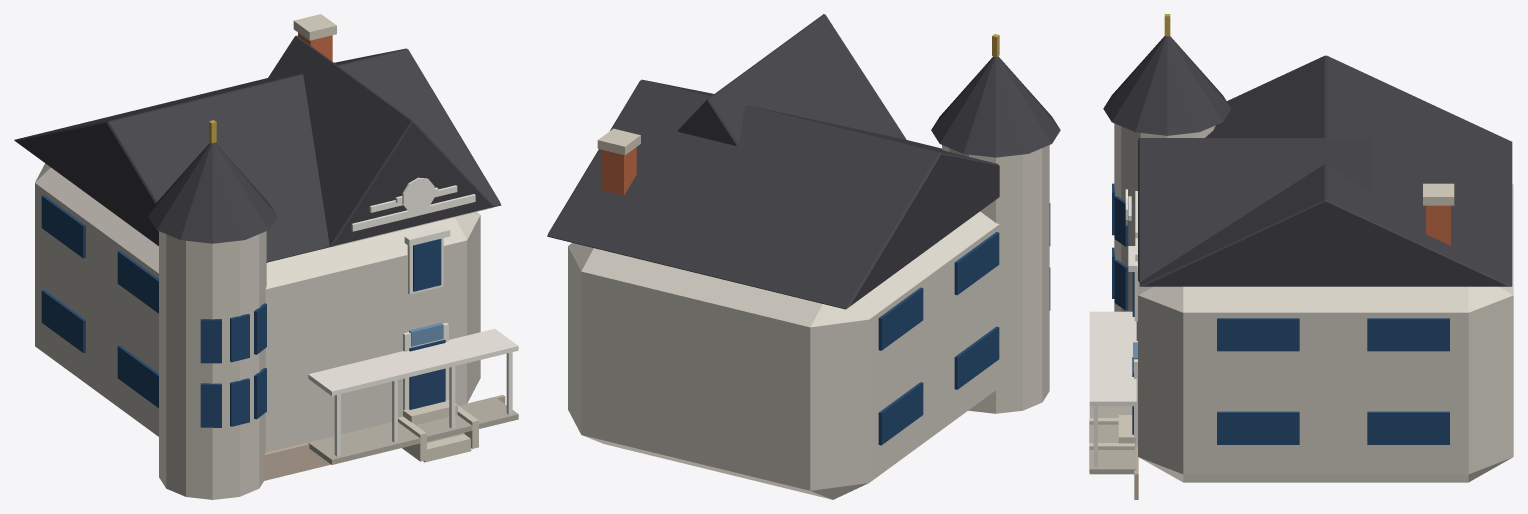
The model's file is qa_w11_wrap.glb.
3 renders of one model, left to right at view 1: azimuth 30°, elevation 25°; view 2: azimuth 150°, elevation 25°; view 3: azimuth 270°, elevation 25°, orthographic.
Parts seen in each view (by area): view 1: walls, roof, turret, roof.001, tcone, proof, porch, bsmt, sb.006, sb.002, sb.004, sb (+16 smaller); view 2: walls, roof, turret, roof.001, tcone, sb.004, sb, sb.002, sb.006, chimney, chimcap; view 3: walls, roof, roof.001, tcone, proof, turret, sb.001, sb.003, sb.005, sb.007, porch, chimney (+3 smaller).
Part boxes in pixels (box(x1,y1,x2,y2)): walls: box(35, 163, 480, 452); roof: box(14, 48, 501, 262); turret: box(159, 231, 266, 499); roof.001: box(265, 35, 493, 246); tcone: box(148, 142, 277, 243); proof: box(308, 328, 518, 395); porch: box(308, 397, 518, 464); bsmt: box(264, 395, 505, 480); sb.006: box(41, 195, 85, 258); sb.002: box(41, 290, 85, 352); sb.004: box(117, 251, 158, 313); sb: box(117, 345, 158, 408); walls: box(568, 211, 999, 499); roof: box(547, 79, 999, 309); turret: box(942, 145, 1049, 413); roof.001: box(678, 14, 906, 145); tcone: box(931, 56, 1060, 157); sb.004: box(954, 232, 999, 295); sb: box(954, 326, 999, 389); sb.002: box(878, 382, 923, 445); sb.006: box(878, 287, 923, 350); chimney: box(602, 147, 636, 195); chimcap: box(597, 128, 640, 155); walls: box(1138, 184, 1513, 482); roof: box(1139, 55, 1512, 286); roof.001: box(1138, 138, 1370, 282); tcone: box(1103, 36, 1231, 135); proof: box(1089, 311, 1136, 406); turret: box(1114, 123, 1215, 340); sb.001: box(1217, 411, 1299, 444); sb.003: box(1367, 411, 1449, 444); sb.005: box(1217, 318, 1299, 351); sb.007: box(1367, 318, 1449, 351); porch: box(1089, 406, 1136, 474); chimney: box(1426, 205, 1450, 245).
Bounding box in the file's own units: 12.22 × 12.4 × 13.56.
